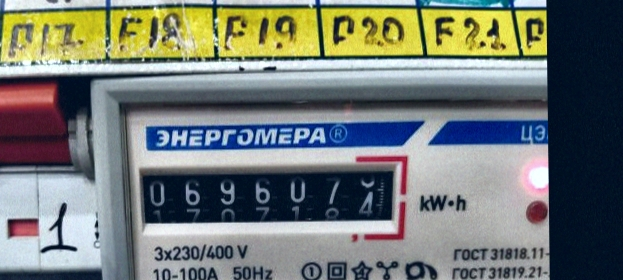0: (144, 178, 166, 208), (286, 175, 306, 204)
4: (353, 189, 373, 219)
6: (250, 176, 271, 207), (180, 177, 200, 207)
7: (321, 174, 340, 205)
9: (215, 177, 236, 206)
screen: (126, 149, 410, 244)
